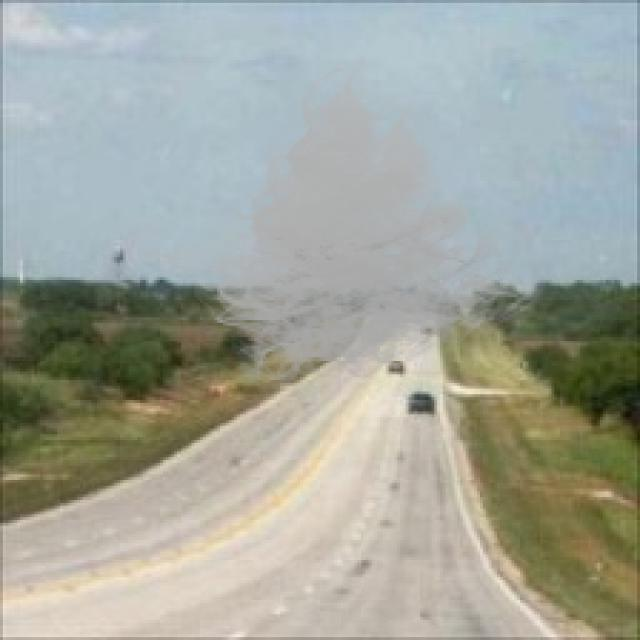Smoke: (183, 57, 552, 403)
